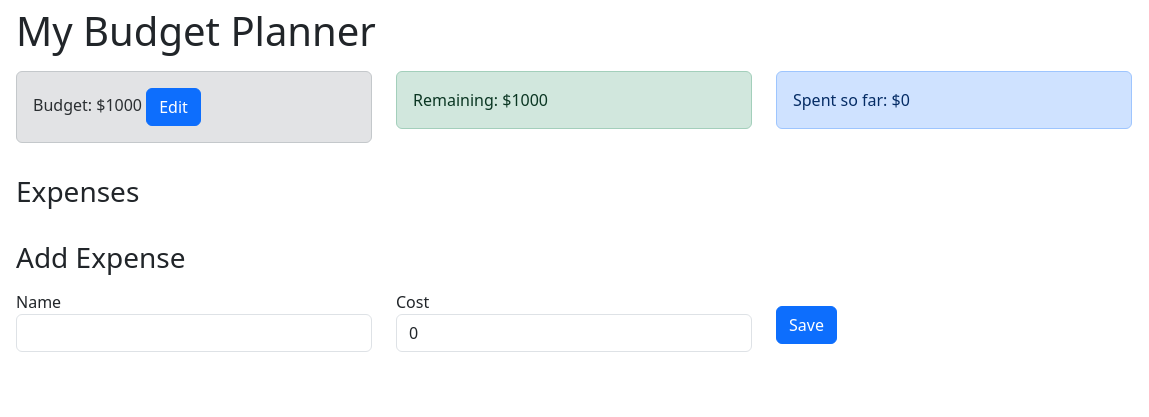
adds one expense
Step 1. Type "COBLENZ IS AWESOME" into the field with test id "NAMEINPUT" → x=194, y=333, box [16,314,372,352]
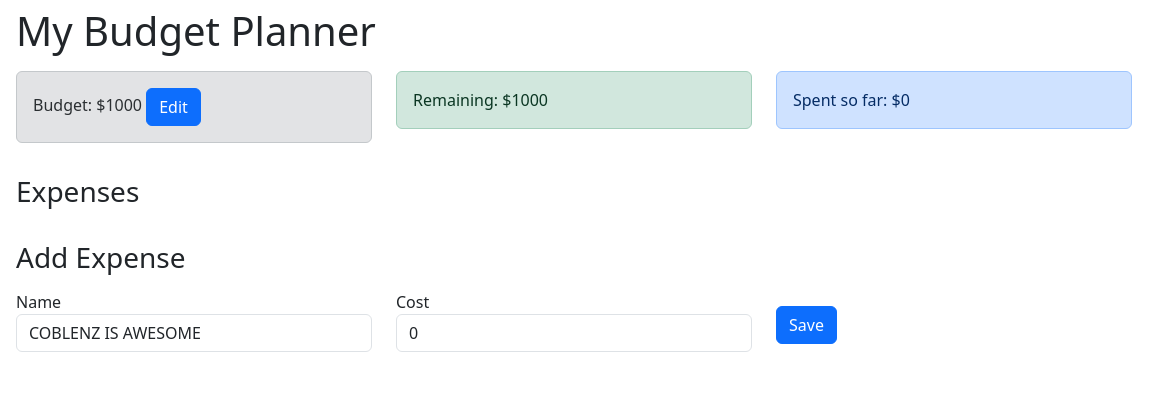
Step 2. Replace the text in the field with test id "COSTINPUT" with "100" → x=574, y=333, box [396,314,752,352]
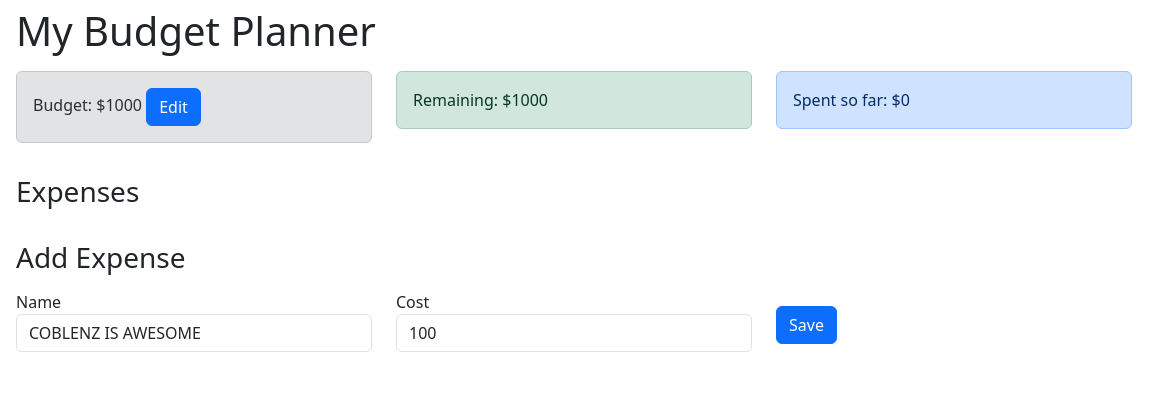
Step 3. Click the button "Save" → x=806, y=325, box [776,306,837,344]
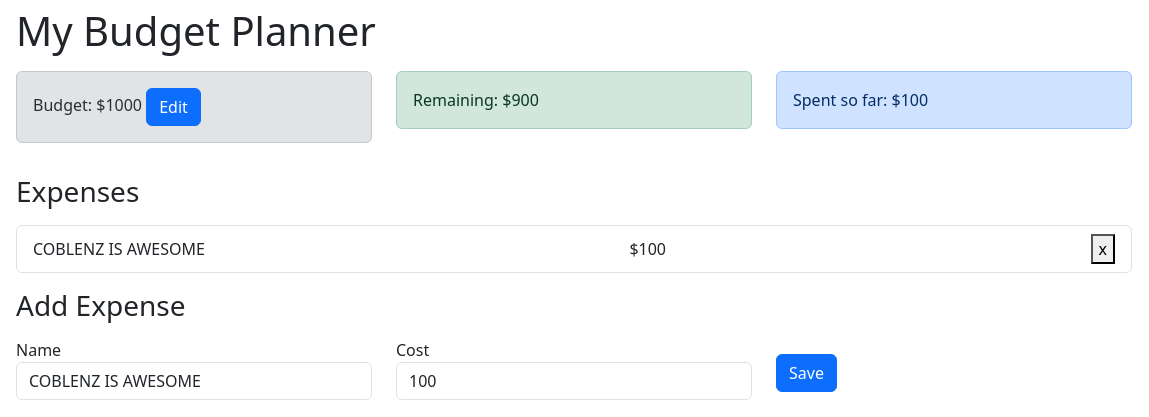
Check: the text with test id "0n" reads "COBLENZ IS AWESOME", box [33,238,205,260]
Check: the text with test id "0c" reads "$100", box [629,237,666,261]
Check: the text "Remaining: $900" is shown, box [413,89,539,111]
